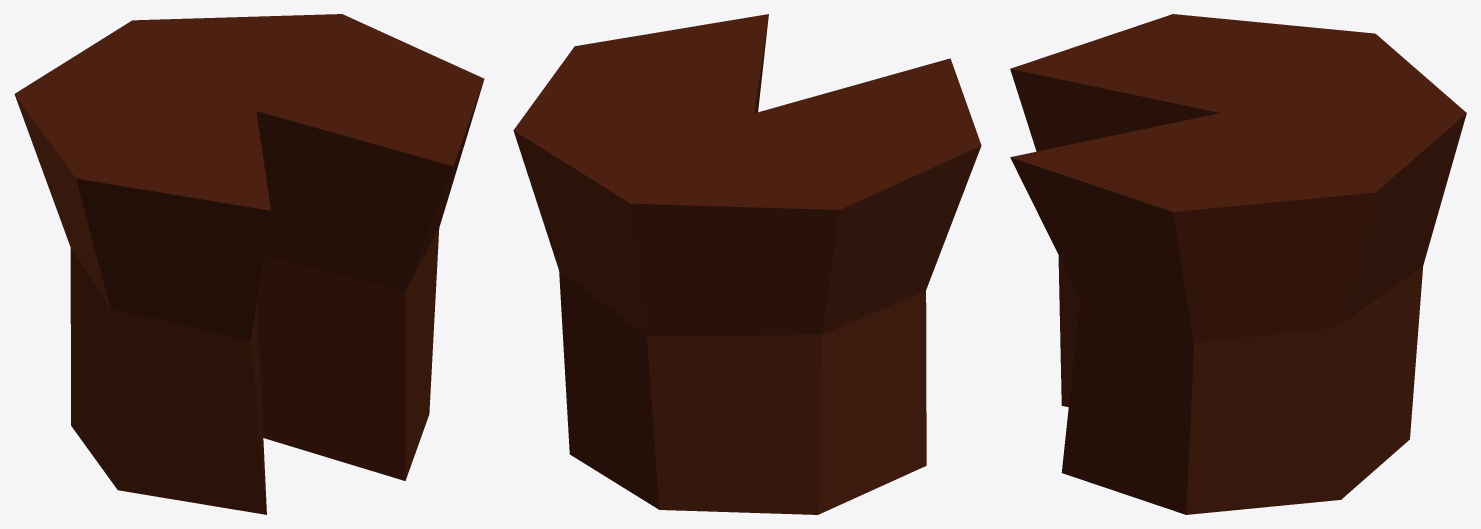
Rendered from Stump.001.fbx.
3 renders of one model, left to right at view 1: azimuth 30°, elevation 25°; view 2: azimuth 150°, elevation 25°; view 3: azimuth 270°, elevation 25°, orthographic.
Parts seen in each view (by area): view 1: Stump.001; view 2: Stump.001; view 3: Stump.001.
Part boxes in pixels (bbox=[...]): Stump.001: bbox=[14, 14, 484, 514]; Stump.001: bbox=[513, 14, 981, 514]; Stump.001: bbox=[1010, 14, 1466, 514].
Size of the model in its own units: 17.63 by 13.55 by 17.18.
